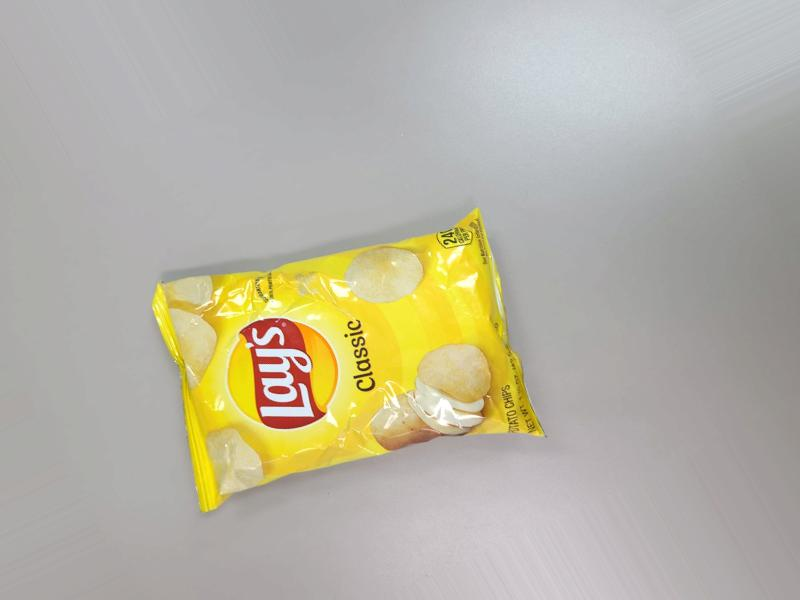lays: (130, 208, 513, 537)
